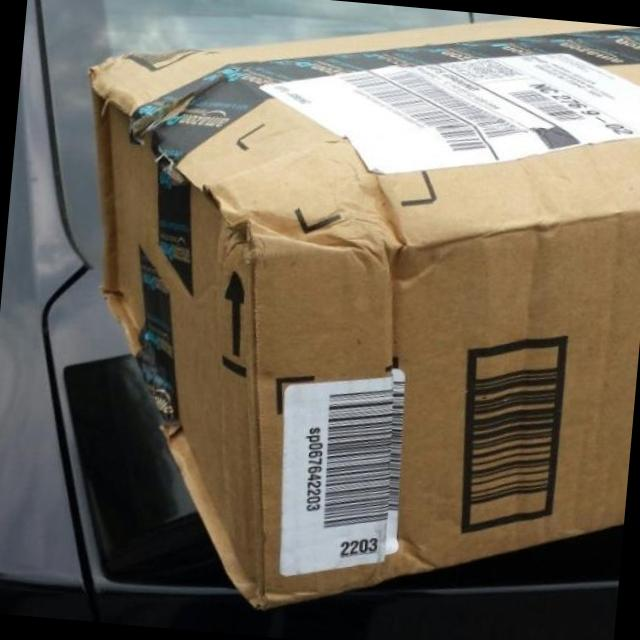crushed: (88, 12, 640, 612), (215, 155, 452, 310)
